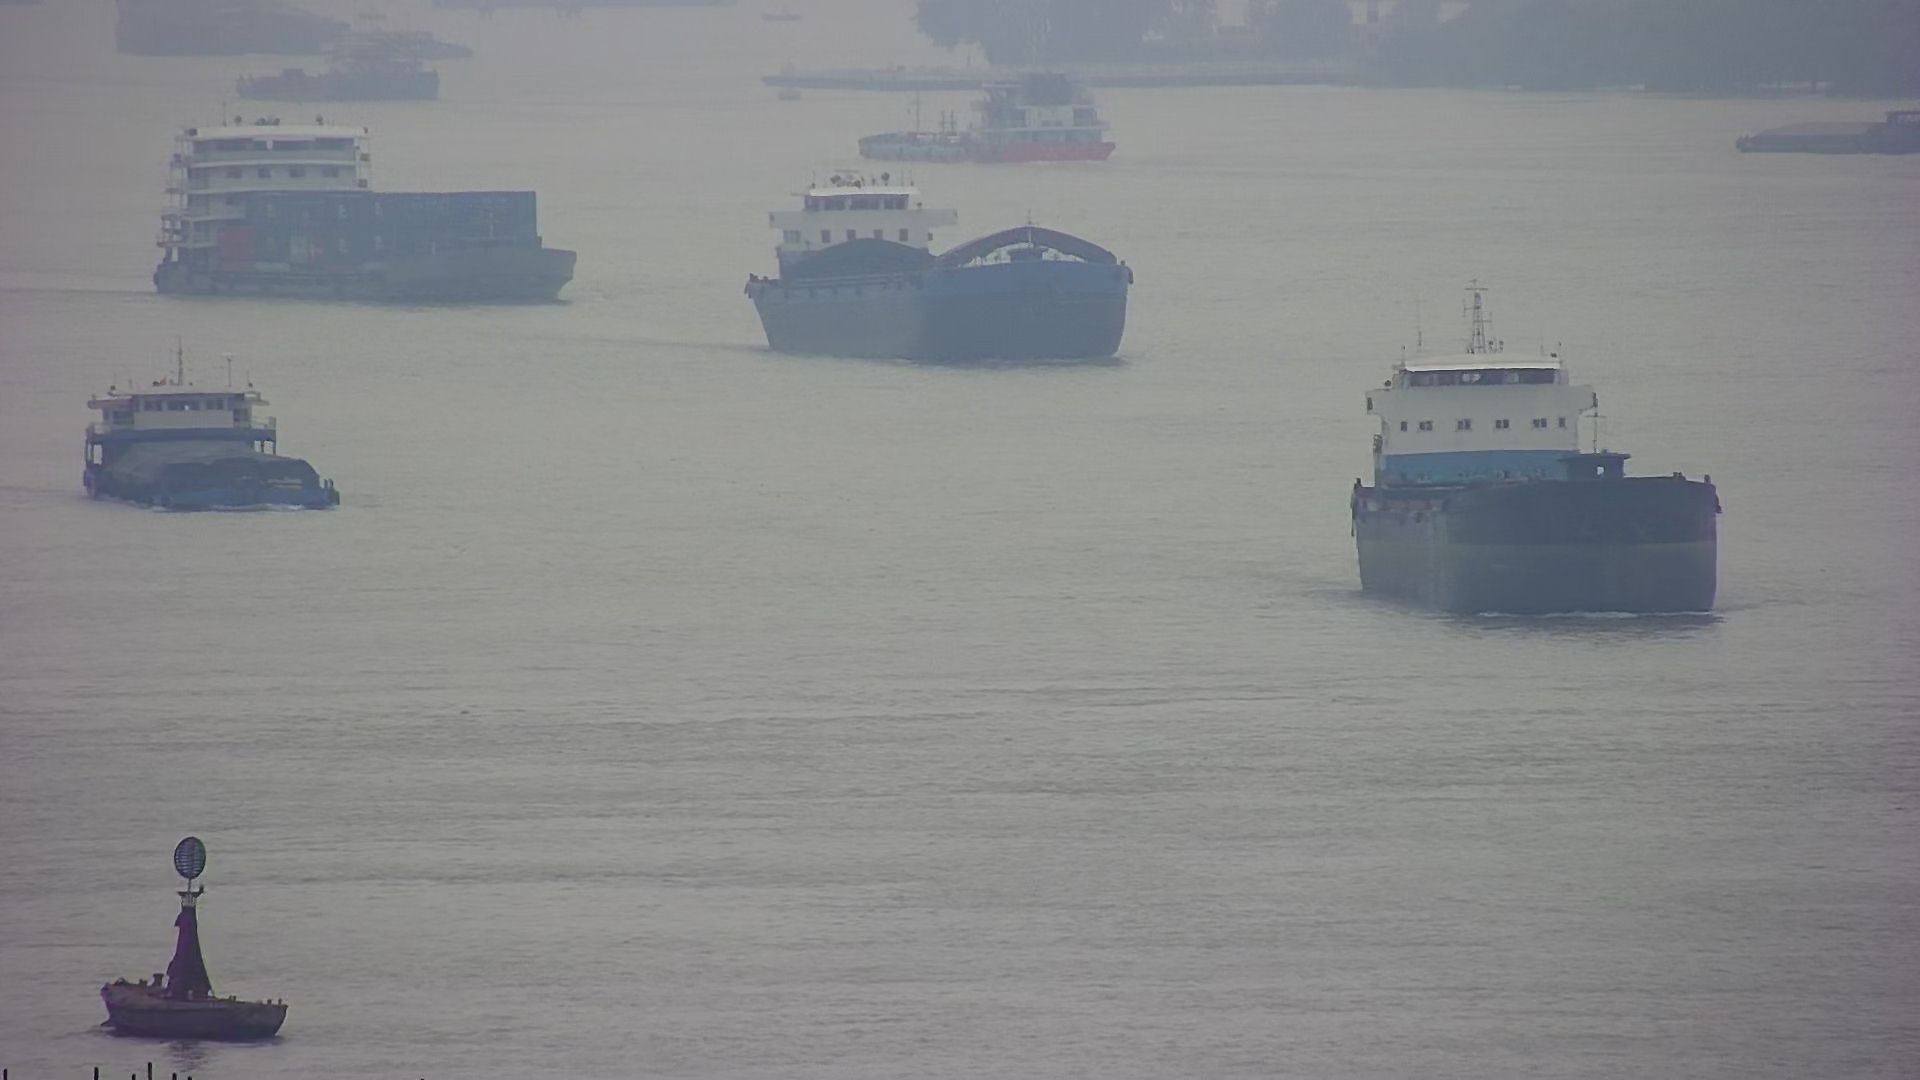boat: (96, 831, 289, 1044)
ship: (1349, 322, 1722, 622), (153, 111, 578, 310), (750, 170, 1133, 367), (76, 361, 345, 514), (851, 73, 1120, 170), (1730, 109, 1920, 166)
